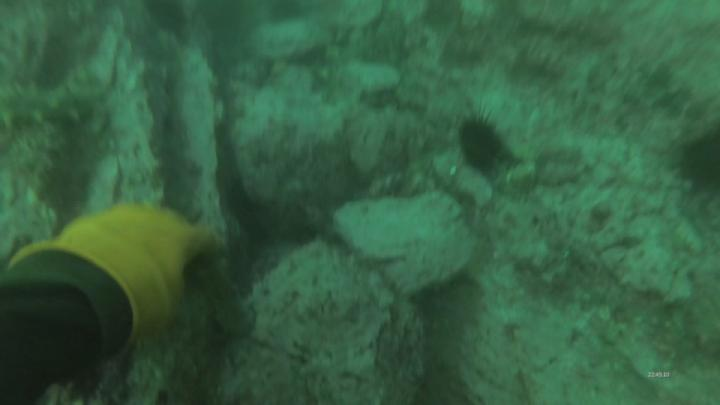echinus: (451, 108, 511, 175), (677, 132, 720, 191), (143, 1, 186, 37), (421, 1, 458, 39)
holothurian: (186, 250, 257, 338), (504, 40, 570, 85), (442, 26, 494, 69)
